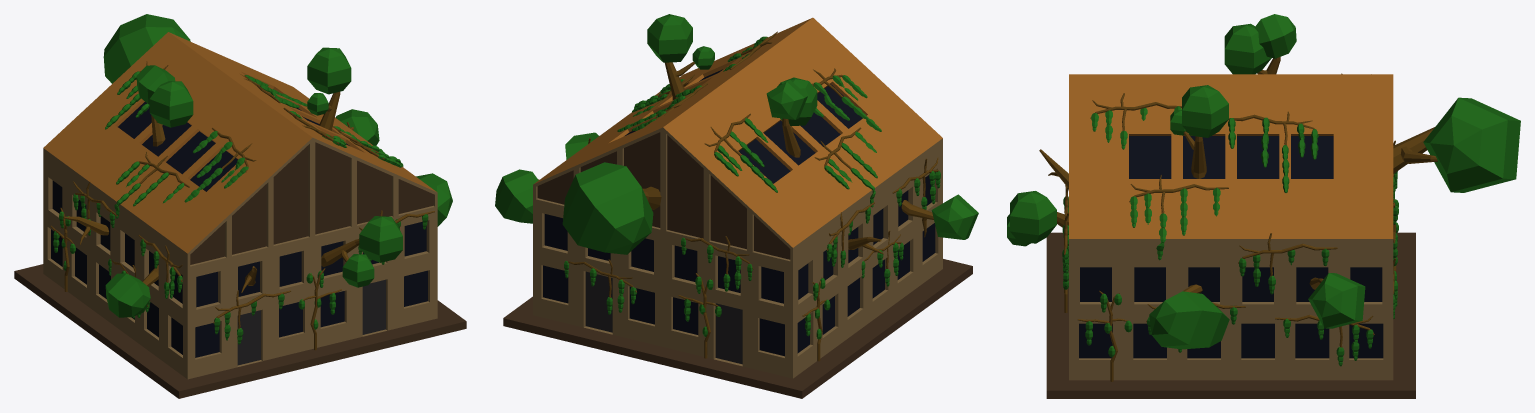
Rendered from building2_stage3.fbx.
The picture shows the model from 3 angles, left to right: view 1: azimuth 30°, elevation 25°; view 2: azimuth 150°, elevation 25°; view 3: azimuth 270°, elevation 25°; orthographic projection. The views are drawn at different scales.
Visible parts, largest first — view 1: Building2_Stage3; view 2: Building2_Stage3; view 3: Building2_Stage3.
Boxes of the visible parts, x1,y1,x2,y2 form: Building2_Stage3: (14,14,466,398); Building2_Stage3: (495,14,978,398); Building2_Stage3: (1007,14,1520,398).
Size of the model in its own units: 600 by 386 by 652.
